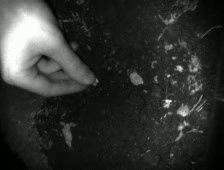corn: (91, 77, 100, 87)
